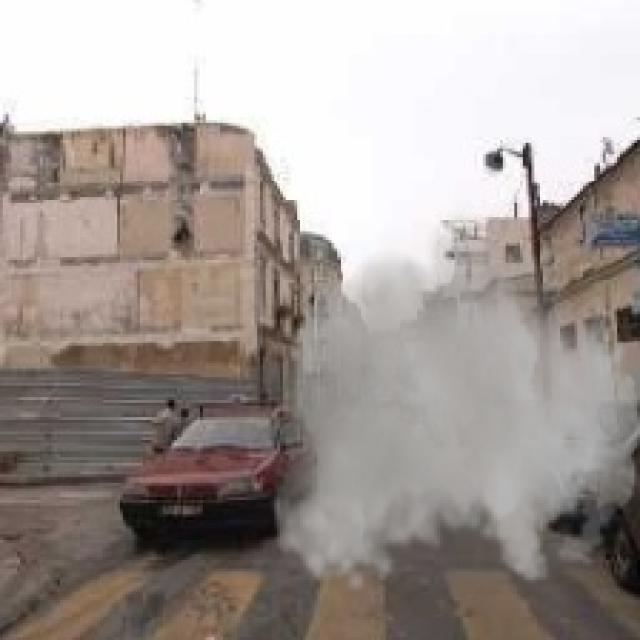smoke: (272, 200, 637, 597)
